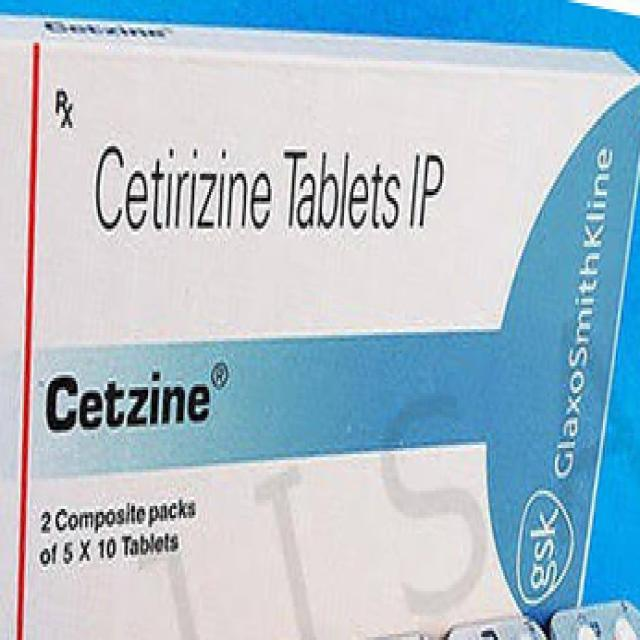drug-name: (42, 352, 232, 435)
